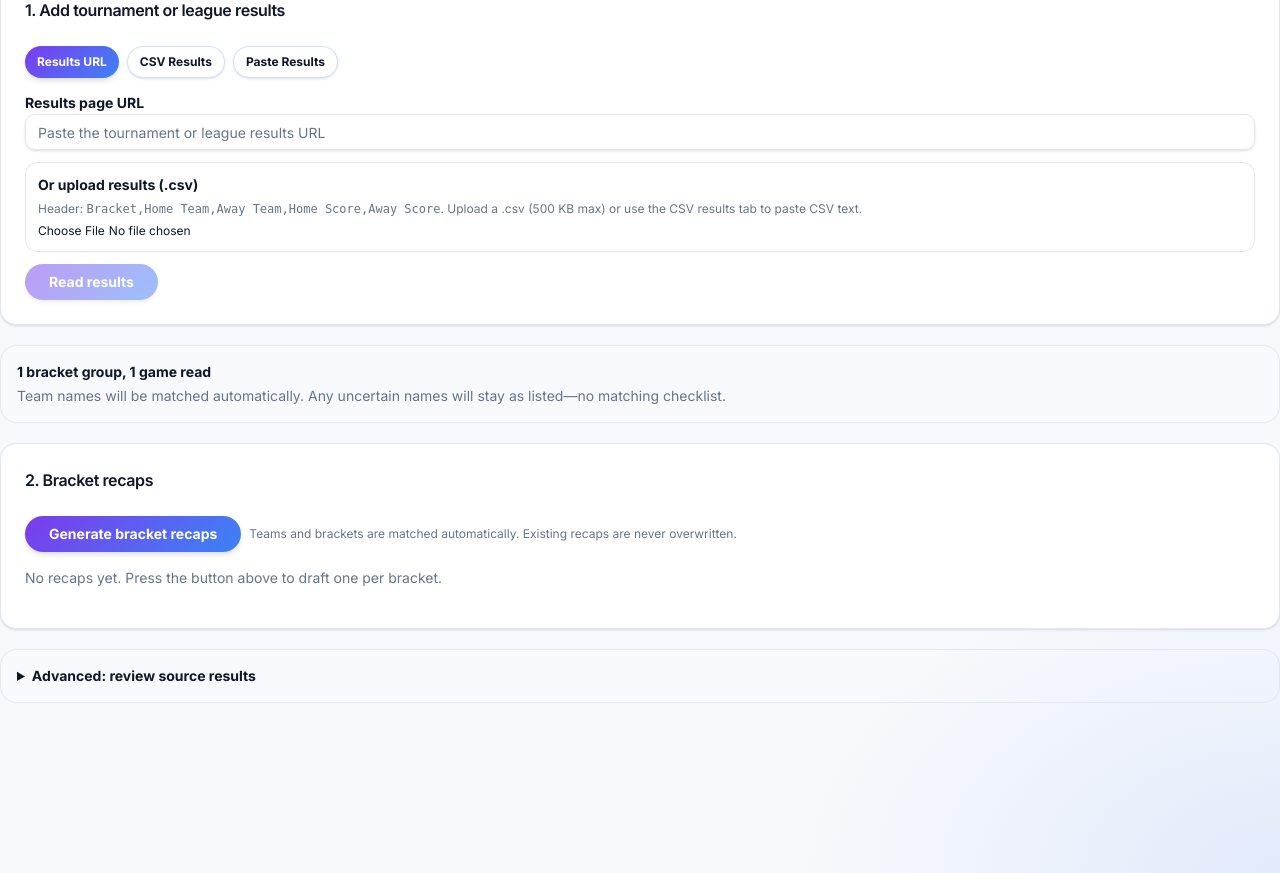
Test: ResultsConsole › blocks confirm until mappings are explicit and shows partial provenance
This screenshot has width=1280, height=873.
Click the heading "Advanced: review source results".
click(144, 676)  # box [32,667,256,684]
(page scrolled)
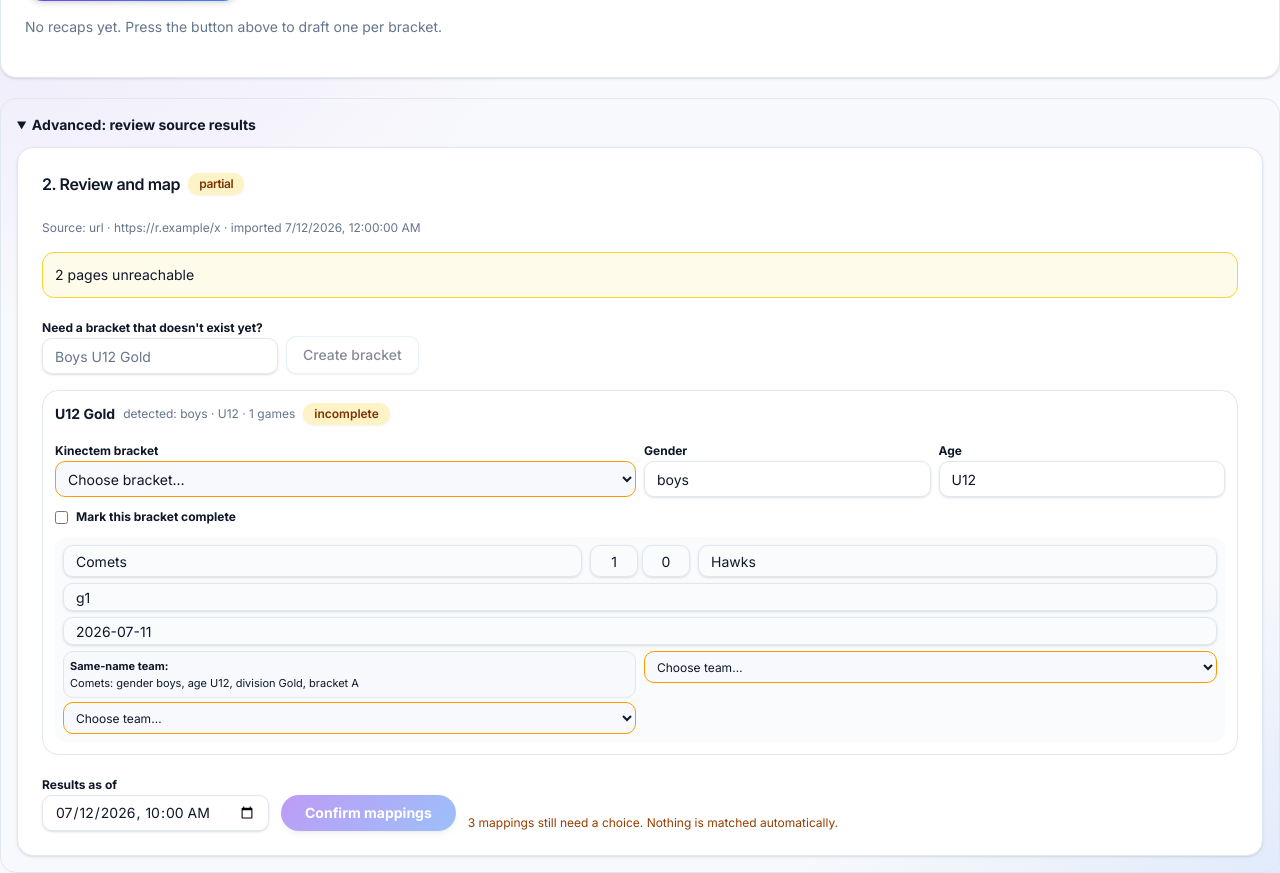
Result: the text with test id "badge-snapshot-status" reads "partial" at [199,176,233,191]
Result: the text with test id "text-provenance" shows "https://r.example/x" at [104,220,220,235]
Result: the text "incomplete" is shown at [303,403,390,425]
Select "Boys U12" in the dropdown with test id "select-bracket-g1" at (346, 479), box [55,461,636,497]
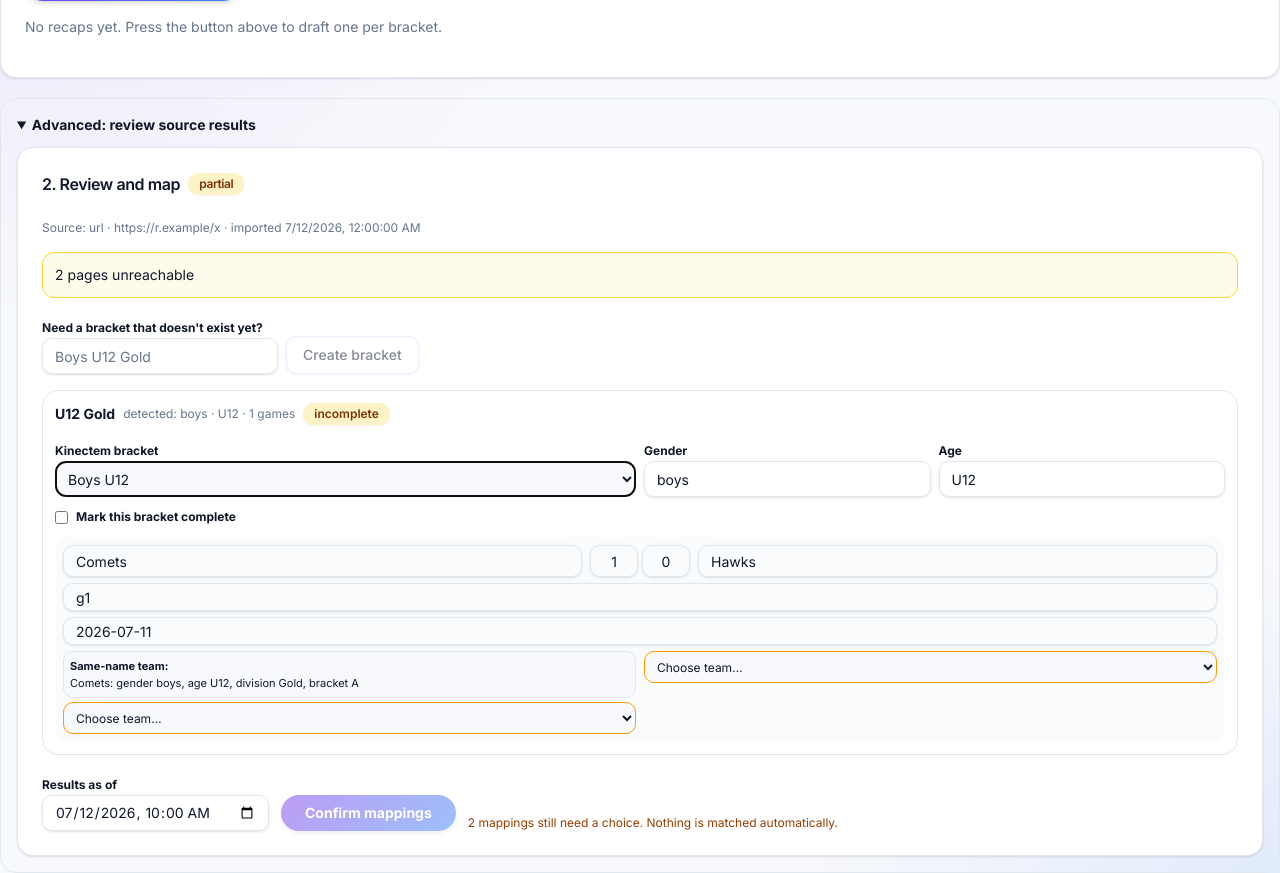
Select "Comets (boys / U12 / Gold / A)" in the dropdown with test id "map-home-x1" at (350, 718), box [63,702,636,734]
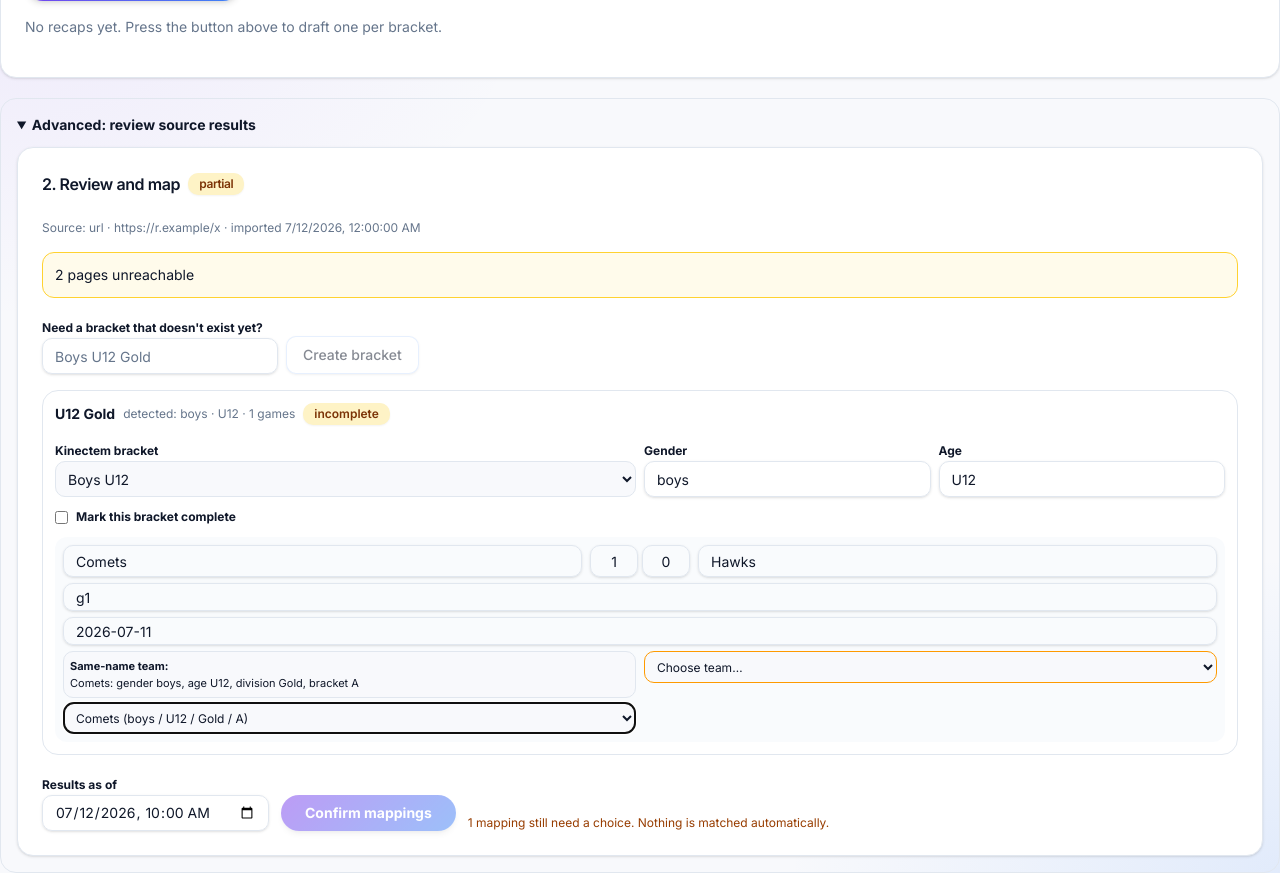
Result: the button with test id "btn-confirm-mappings" is disabled at [281,795,456,831]
Select "External team (not on Kinectem)" in the dropdown with test id "map-away-x1" at (930, 667), box [644,651,1217,683]
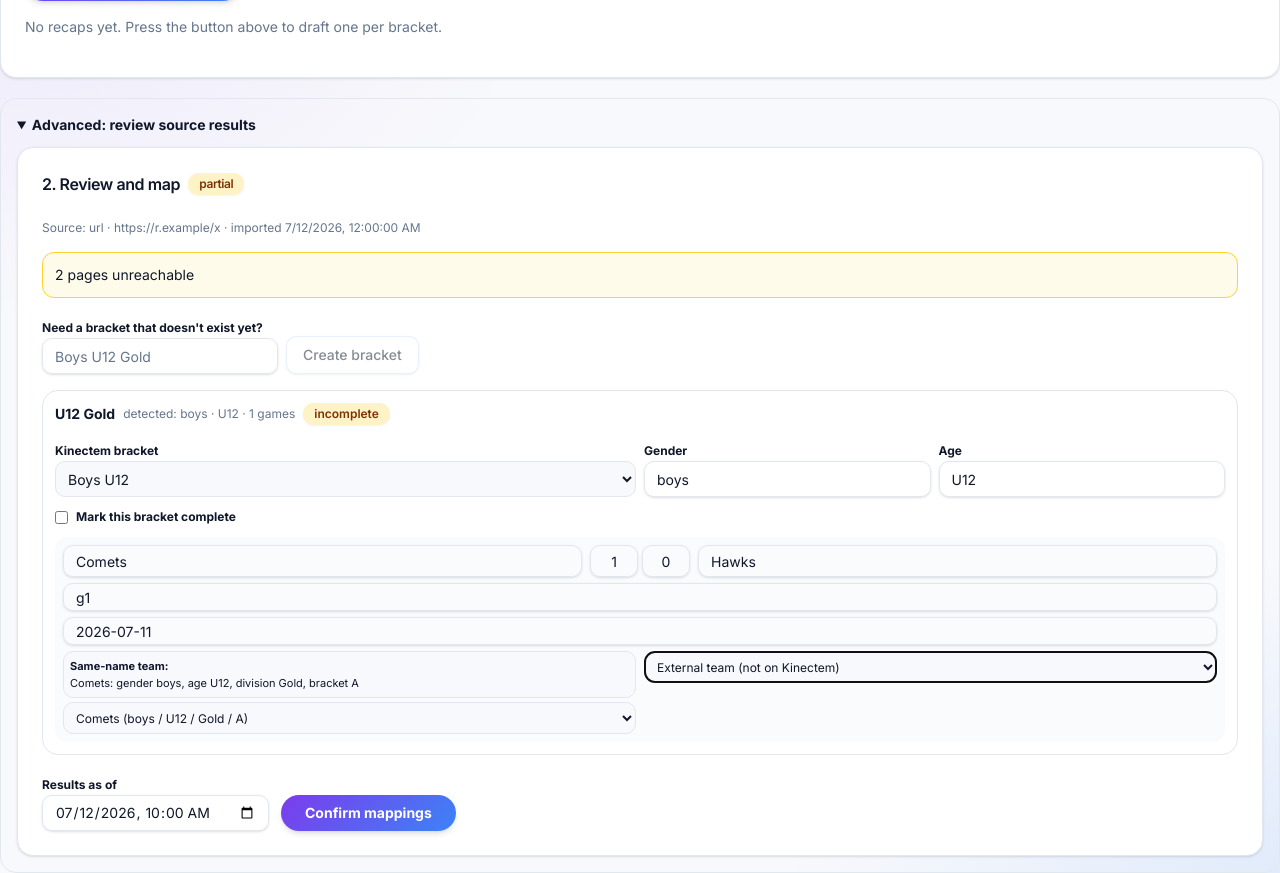
Result: the button with test id "btn-confirm-mappings" is enabled at [281,795,456,831]
